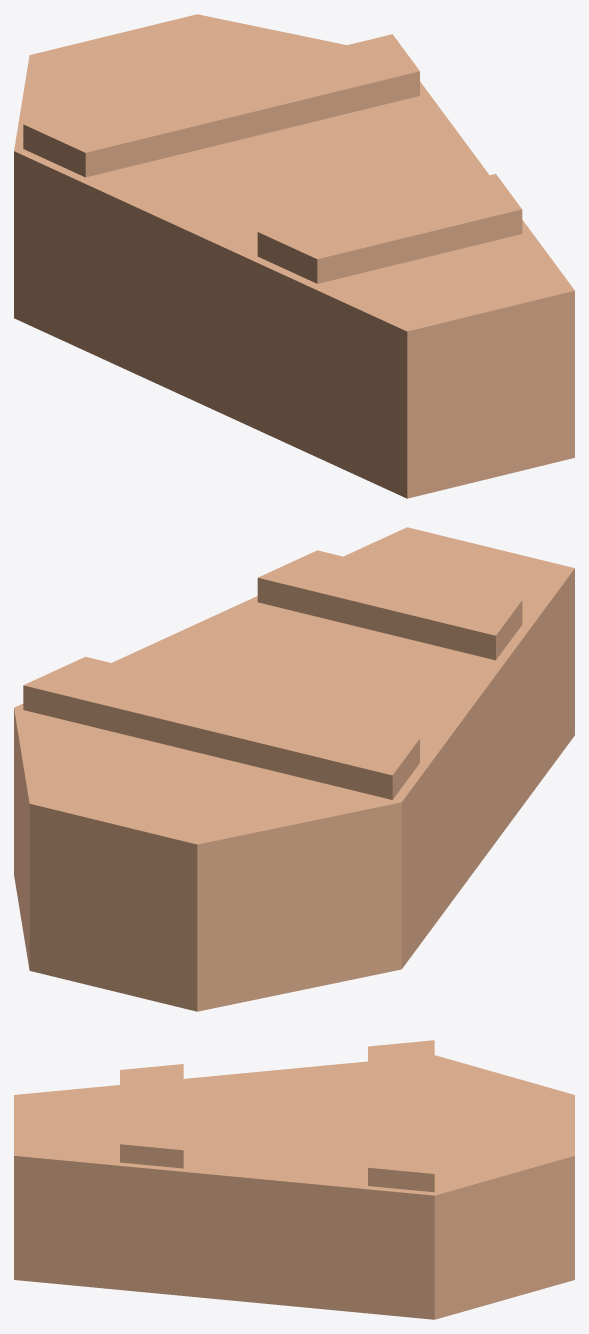
The model's file is coffin.fbx.
3 renders of one model, top to bottom at view 1: azimuth 30°, elevation 25°; view 2: azimuth 150°, elevation 25°; view 3: azimuth 270°, elevation 25°, orthographic. The views are drawn at different scales.
Parts seen in each view (by area): view 1: lid, coffin; view 2: lid, coffin; view 3: lid, coffin.
Part boxes in pixels (x1,y1,x2,y2): lid: (14, 14, 574, 358); coffin: (14, 178, 574, 498); lid: (14, 527, 574, 871); coffin: (14, 595, 574, 1011); lid: (14, 1040, 574, 1215); coffin: (14, 1175, 574, 1319).
Size of the model in its own units: 59.28 by 28.01 by 100.
